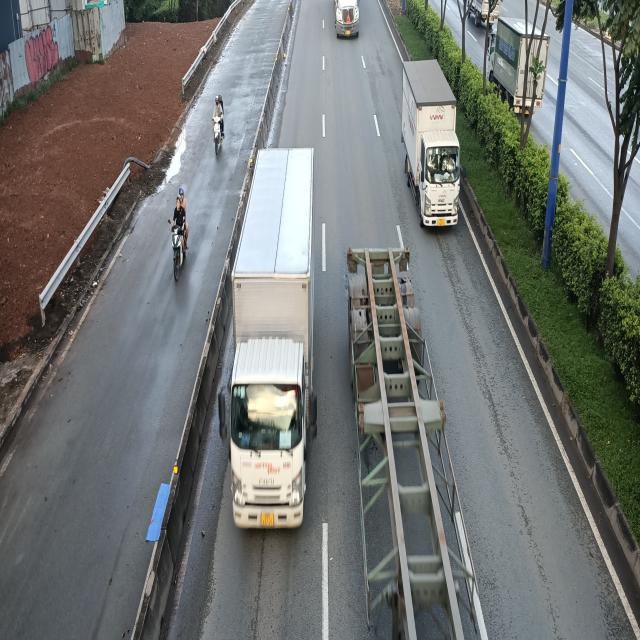container: (346, 245, 489, 640), (334, 0, 362, 38)
truck: (212, 144, 318, 528), (399, 60, 465, 232)
